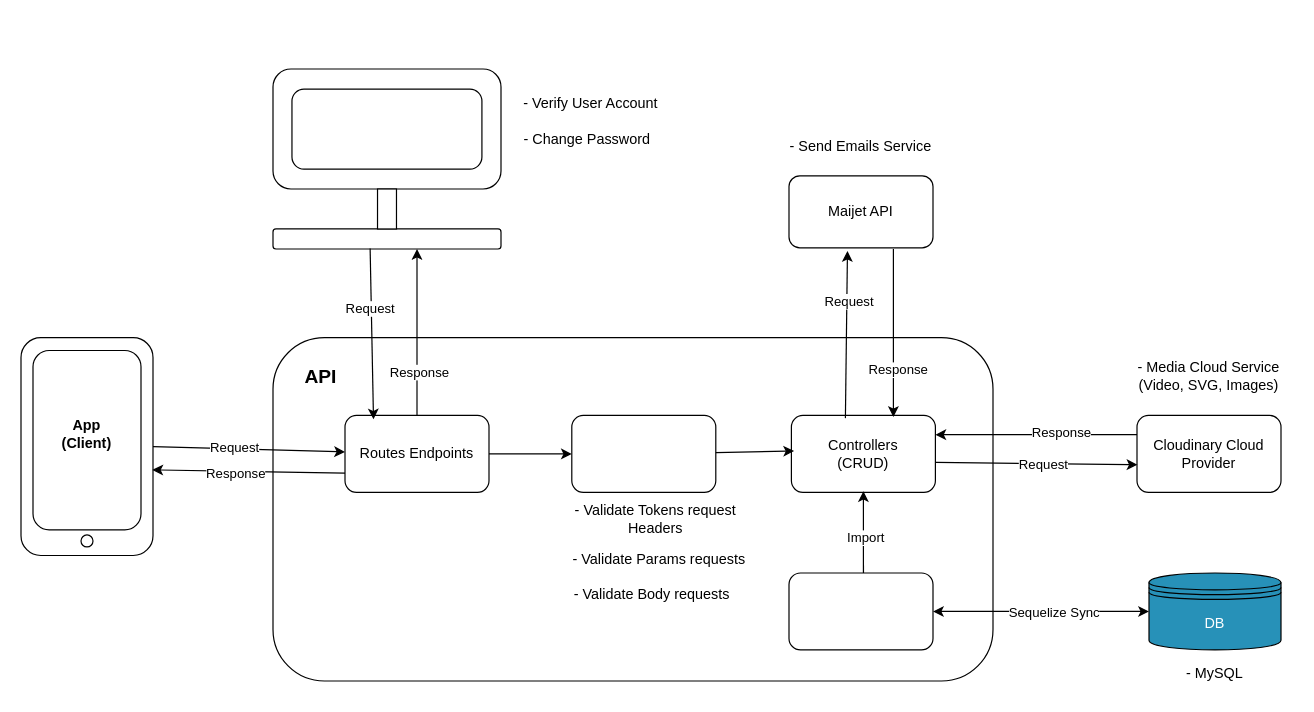
This 1314x712 diagram has some shape labels left out. Each missing label, with the centre of its shape:
Models: pixel 860 611
Validators/ Middlewares: pixel 643 453
Web (Client): pixel 386 128
